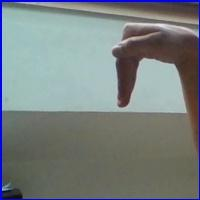del: (106, 21, 194, 117)
